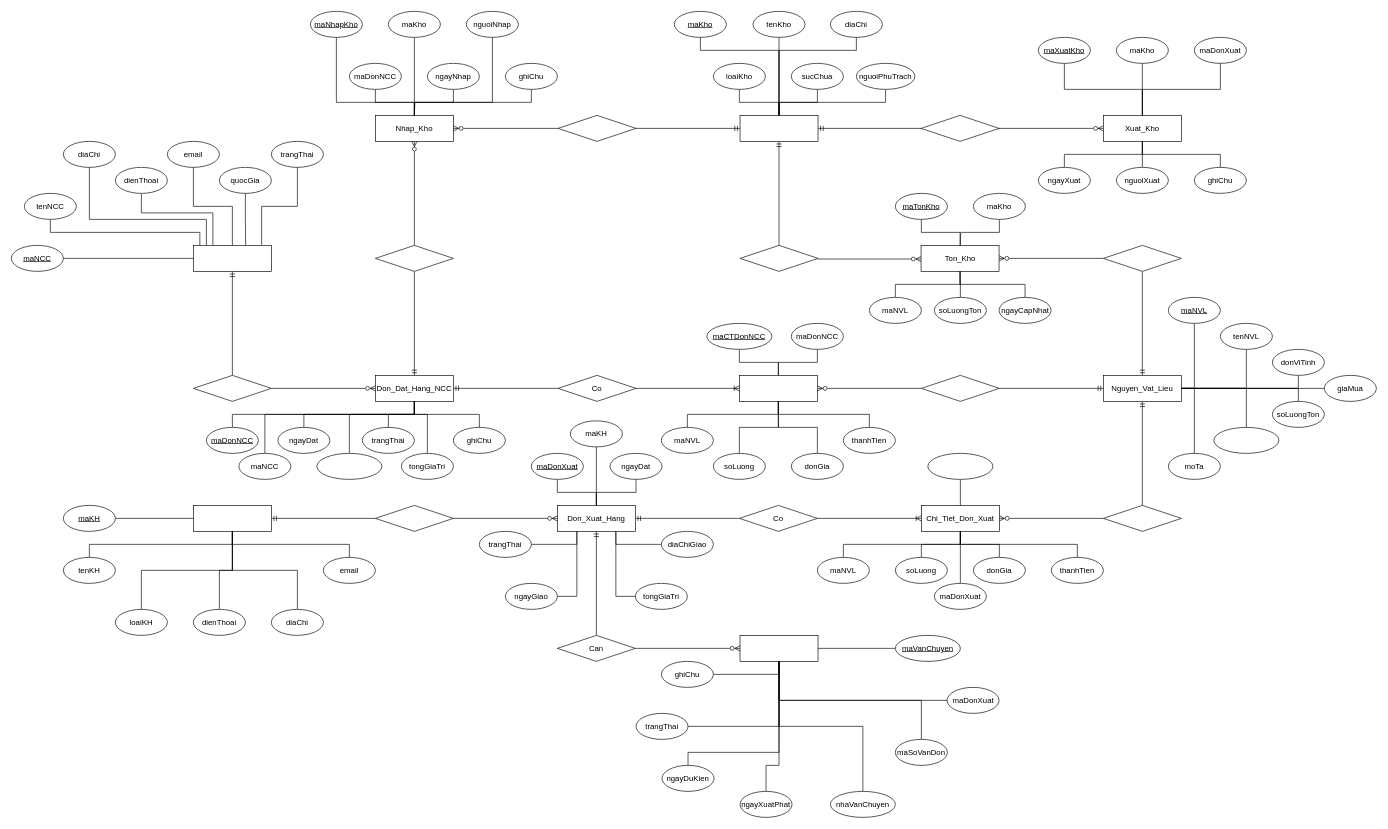
Some shapes in this 1388 by 829 pixel diagram are drawn without their labels. The shapes that lost their labels are listed below. From the top down, each one's centre as x and y in pixels, then its label:
At (x=596, y=128): "Tiep_Nhan".
At (x=778, y=128): "Kho".
At (x=959, y=128): "Thuc_Hien".
At (x=232, y=258): "Nha_Cung_Cap".
At (x=414, y=258): "Sinh_Ra".
At (x=778, y=258): "Luu_Tru".
At (x=1142, y=258): "Co_Trong".
At (x=232, y=388): "Cung_Cap".
At (x=778, y=388): "Chi_Tiet_Don_NCC".
At (x=960, y=388): "Xuat_Hien_Trong".
At (x=1246, y=440): "mucTonToiThieu".
At (x=349, y=466): "ngayGiaoHang".
At (x=960, y=466): "maCTDonXuat".
At (x=232, y=518): "Khach_Hang".
At (x=414, y=518): "Dat".
At (x=1142, y=518): "Nam_Trong".
At (x=778, y=648): "Van_Chuyen".
